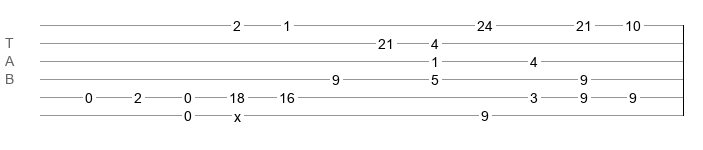0: (85, 90, 93, 100), (184, 108, 192, 118), (184, 90, 192, 100)
1: (283, 18, 291, 28), (431, 54, 439, 64)
10: (625, 18, 641, 28)
16: (279, 90, 295, 100)
18: (229, 90, 245, 100)
2: (134, 90, 142, 100), (233, 18, 241, 28)
21: (378, 36, 394, 46), (576, 18, 592, 28)
24: (477, 18, 493, 28)
3: (530, 90, 538, 100)
4: (431, 36, 439, 46), (530, 54, 538, 64)
5: (431, 72, 439, 82)
9: (332, 72, 340, 82), (481, 108, 489, 118), (580, 90, 588, 100), (580, 72, 588, 82), (629, 90, 637, 100)
x: (234, 109, 241, 117)
